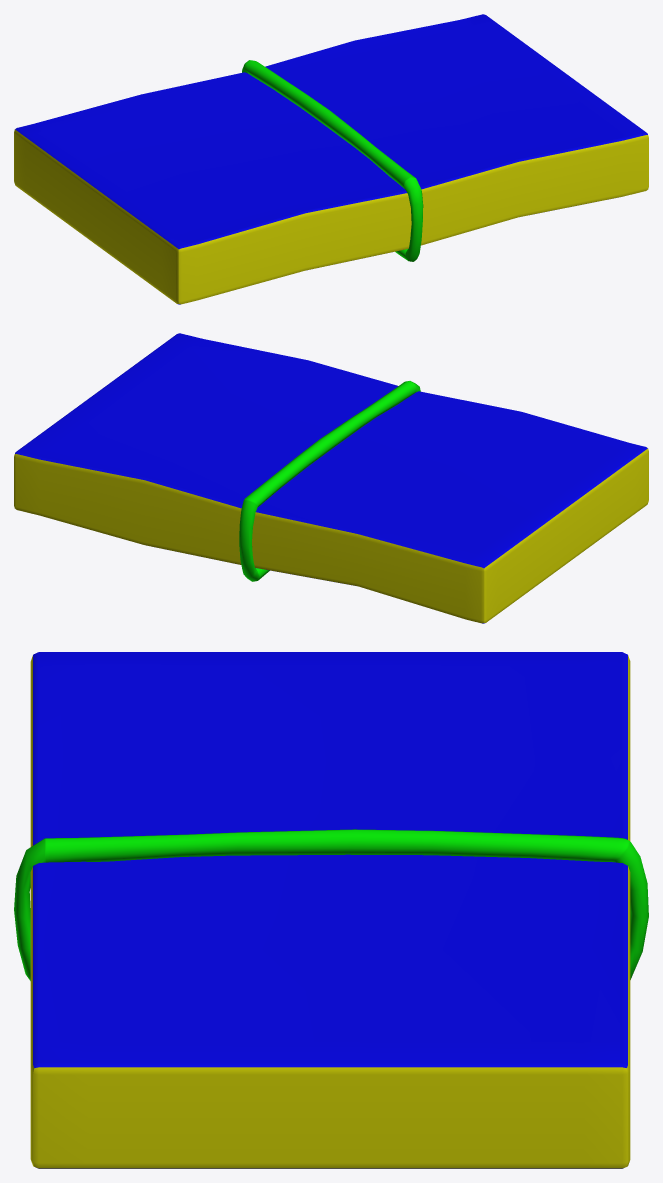
The model's file is new_vine_down.fbx.
3 views of the same model, one above another, from view 1: azimuth 30°, elevation 25°; view 2: azimuth 150°, elevation 25°; view 3: azimuth 270°, elevation 25° (orthographic). The views are drawn at different scales.
Visible parts, largest first — view 1: pCylinder15, nurbsToPoly1; view 2: pCylinder15, nurbsToPoly1; view 3: pCylinder15, nurbsToPoly1.
Boxes of the visible parts, x1=… form: pCylinder15: x1=14, y1=14, x2=648, y2=304; nurbsToPoly1: x1=242, y1=60, x2=423, y2=261; pCylinder15: x1=14, y1=333, x2=648, y2=623; nurbsToPoly1: x1=239, y1=381, x2=420, y2=581; pCylinder15: x1=30, y1=652, x2=630, y2=1168; nurbsToPoly1: x1=14, y1=829, x2=648, y2=980.
Size of the model in its own units: 13.92 by 2.56 by 8.96.
